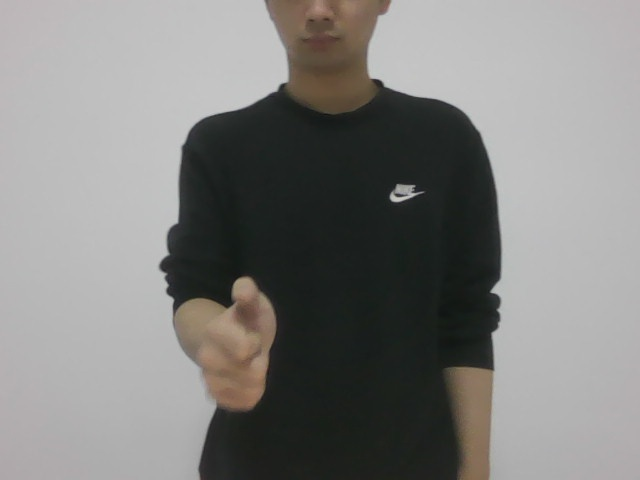thank you: (185, 272, 293, 411)
